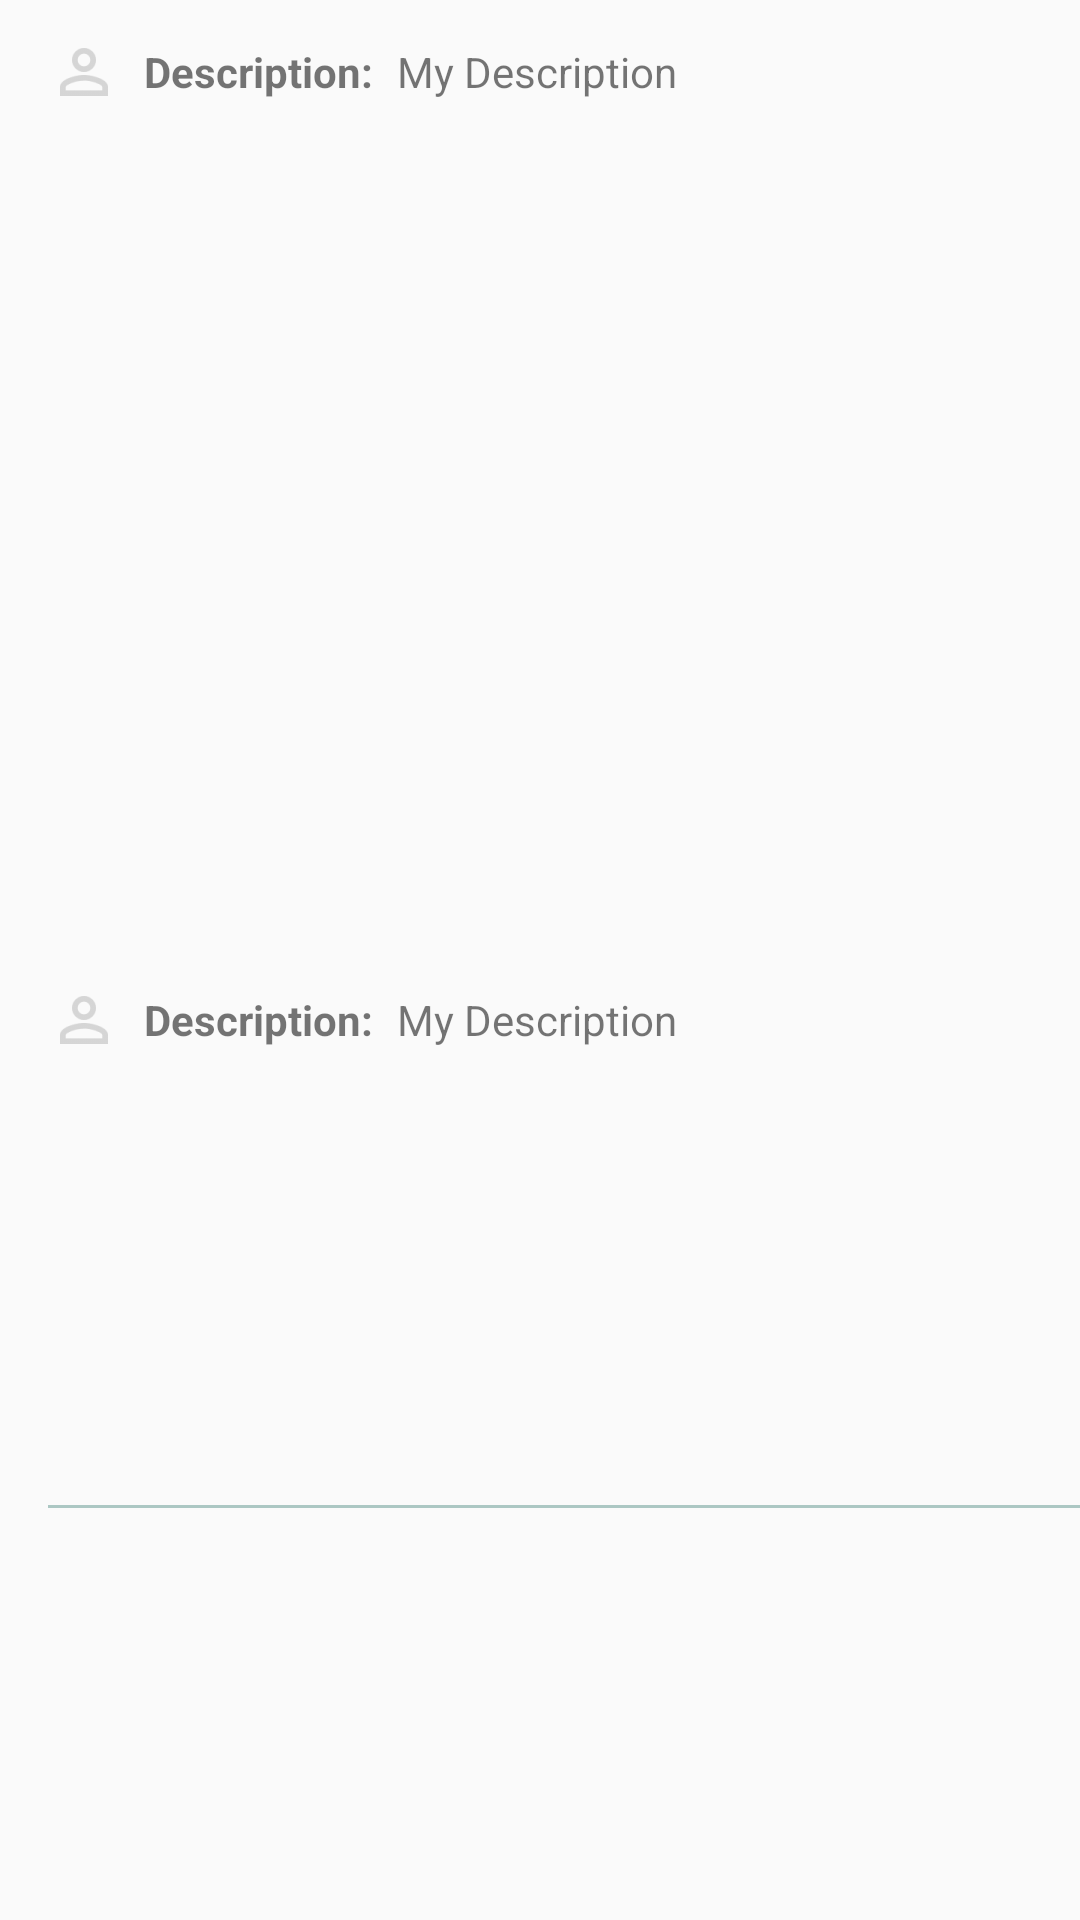

Icons on this 1080px x 1920px Android screen, each with its box as (x1, y1, x2, y2):
profile: (60, 48, 108, 96), (60, 996, 108, 1044)
